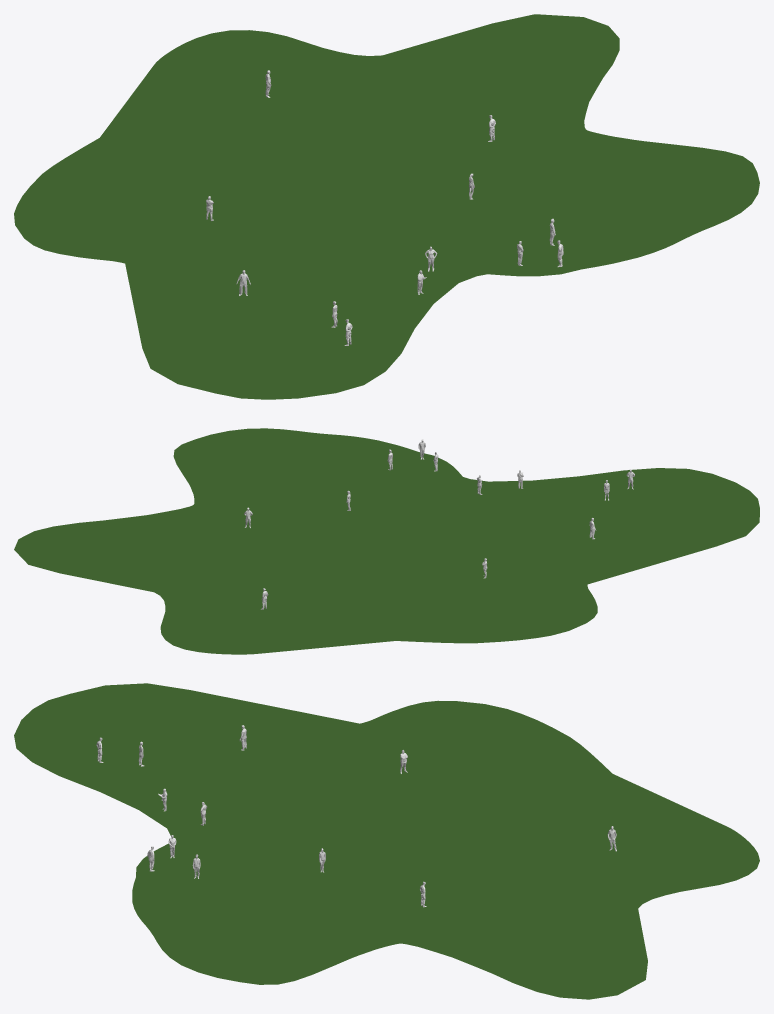
The model's file is parque_verde.fbx.
3 renders of one model, top to bottom at view 1: azimuth 30°, elevation 25°; view 2: azimuth 150°, elevation 25°; view 3: azimuth 270°, elevation 25°, orthographic. The views are drawn at different scales.
Visible parts, largest first — view 1: lago enterrado; view 2: lago enterrado; view 3: lago enterrado.
Part boxes in pixels (x1=…): lago enterrado: x1=14, y1=14, x2=759, y2=399; lago enterrado: x1=14, y1=428, x2=759, y2=654; lago enterrado: x1=14, y1=683, x2=759, y2=999.
Size of the model in its own units: 5276 by 189 by 5258.
